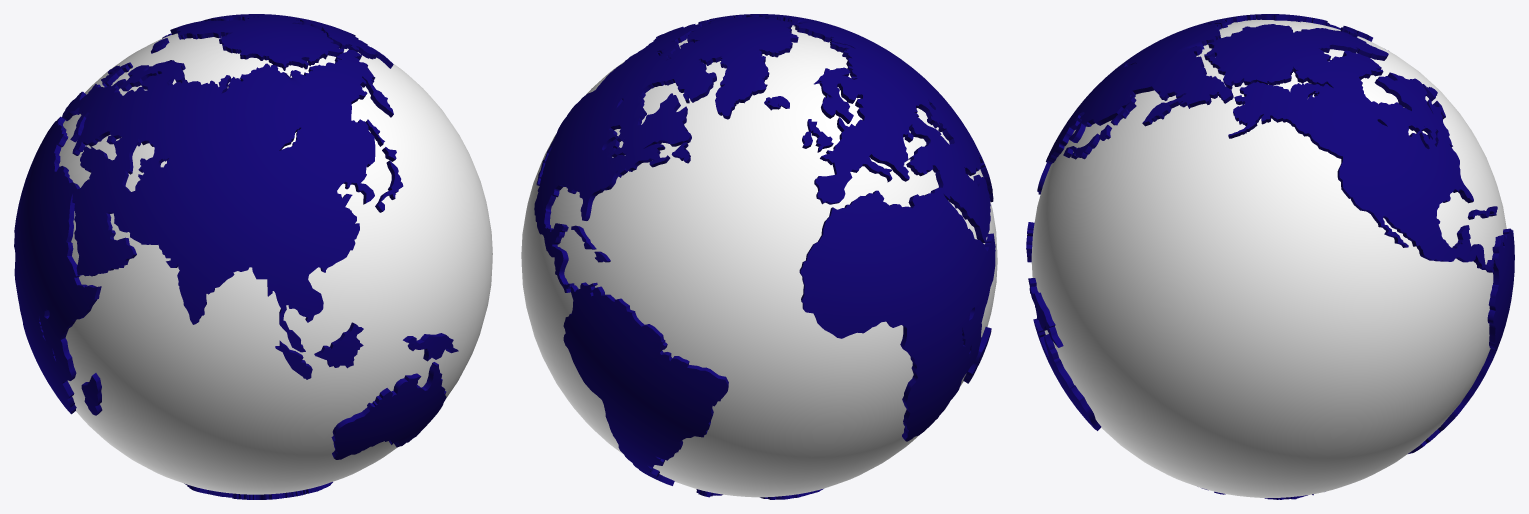
The model's file is earth2.glb.
3 renders of one model, left to right at view 1: azimuth 30°, elevation 25°; view 2: azimuth 150°, elevation 25°; view 3: azimuth 270°, elevation 25°, orthographic.
Visible parts, largest first — view 1: Sphere003; view 2: Sphere003; view 3: Sphere003.
Part boxes in pixels (x1=…): Sphere003: x1=14, y1=14, x2=492, y2=499; Sphere003: x1=521, y1=14, x2=997, y2=499; Sphere003: x1=1026, y1=14, x2=1514, y2=499.
Bounding box in the file's own units: 3.17 × 3.21 × 3.2.
